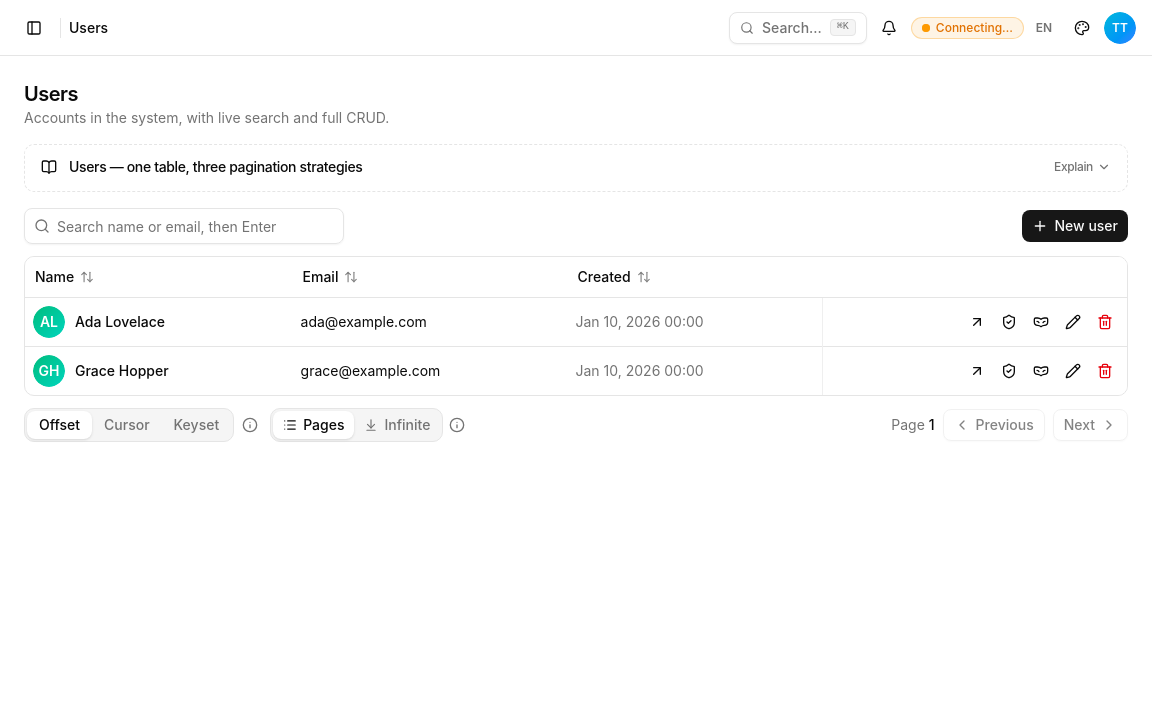
admin users table › deletes a user behind the confirmation dialog
The image size is (1152, 720).
Check: the heading "Users" is shown, box [24,82,78,106]
Click the button named "Delete ada@example.com". click: (1105, 322)
box: [1091,308,1119,336]
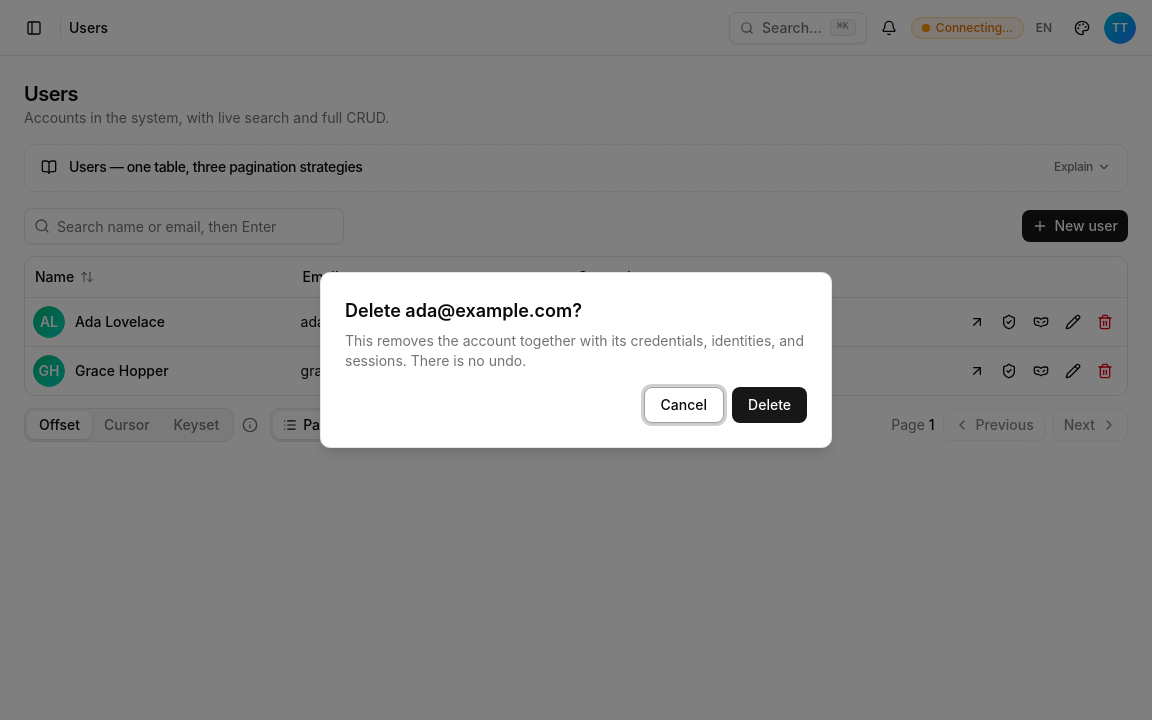
Check: the heading "Delete ada@example.com?" is shown, box [345,297,582,325]
Click the button "Delete". click: (770, 405)
box: [732,387,807,423]
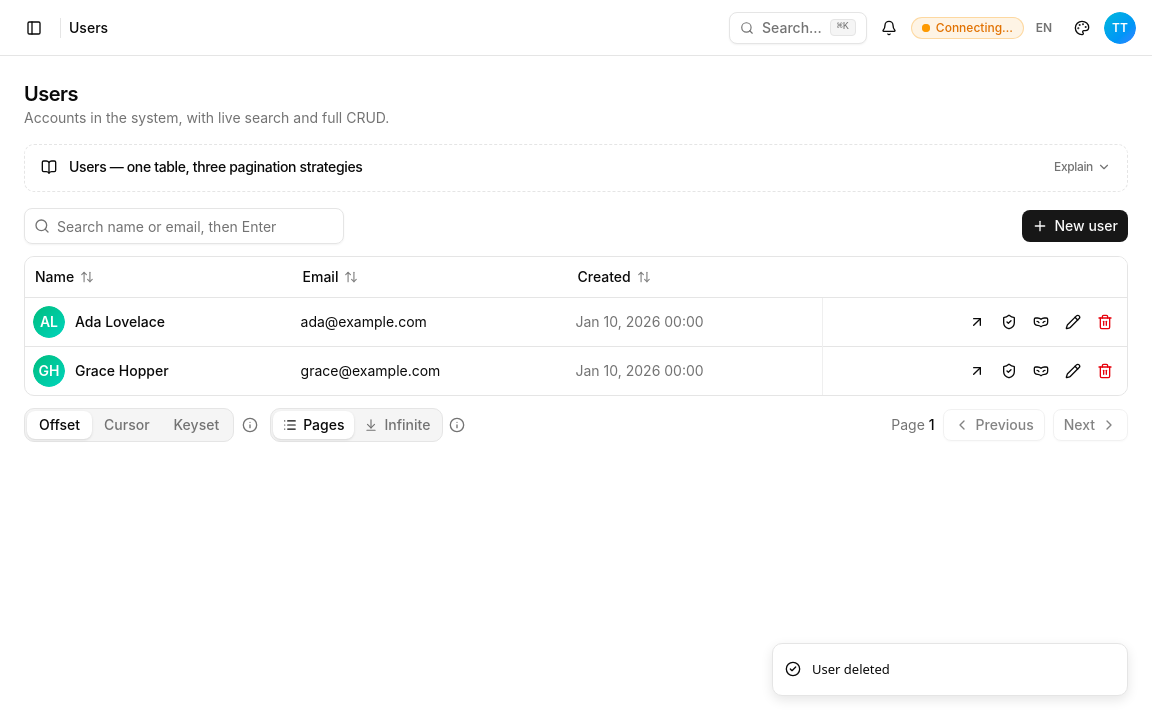
Check: the text "User deleted" is shown, box [812,660,890,679]
